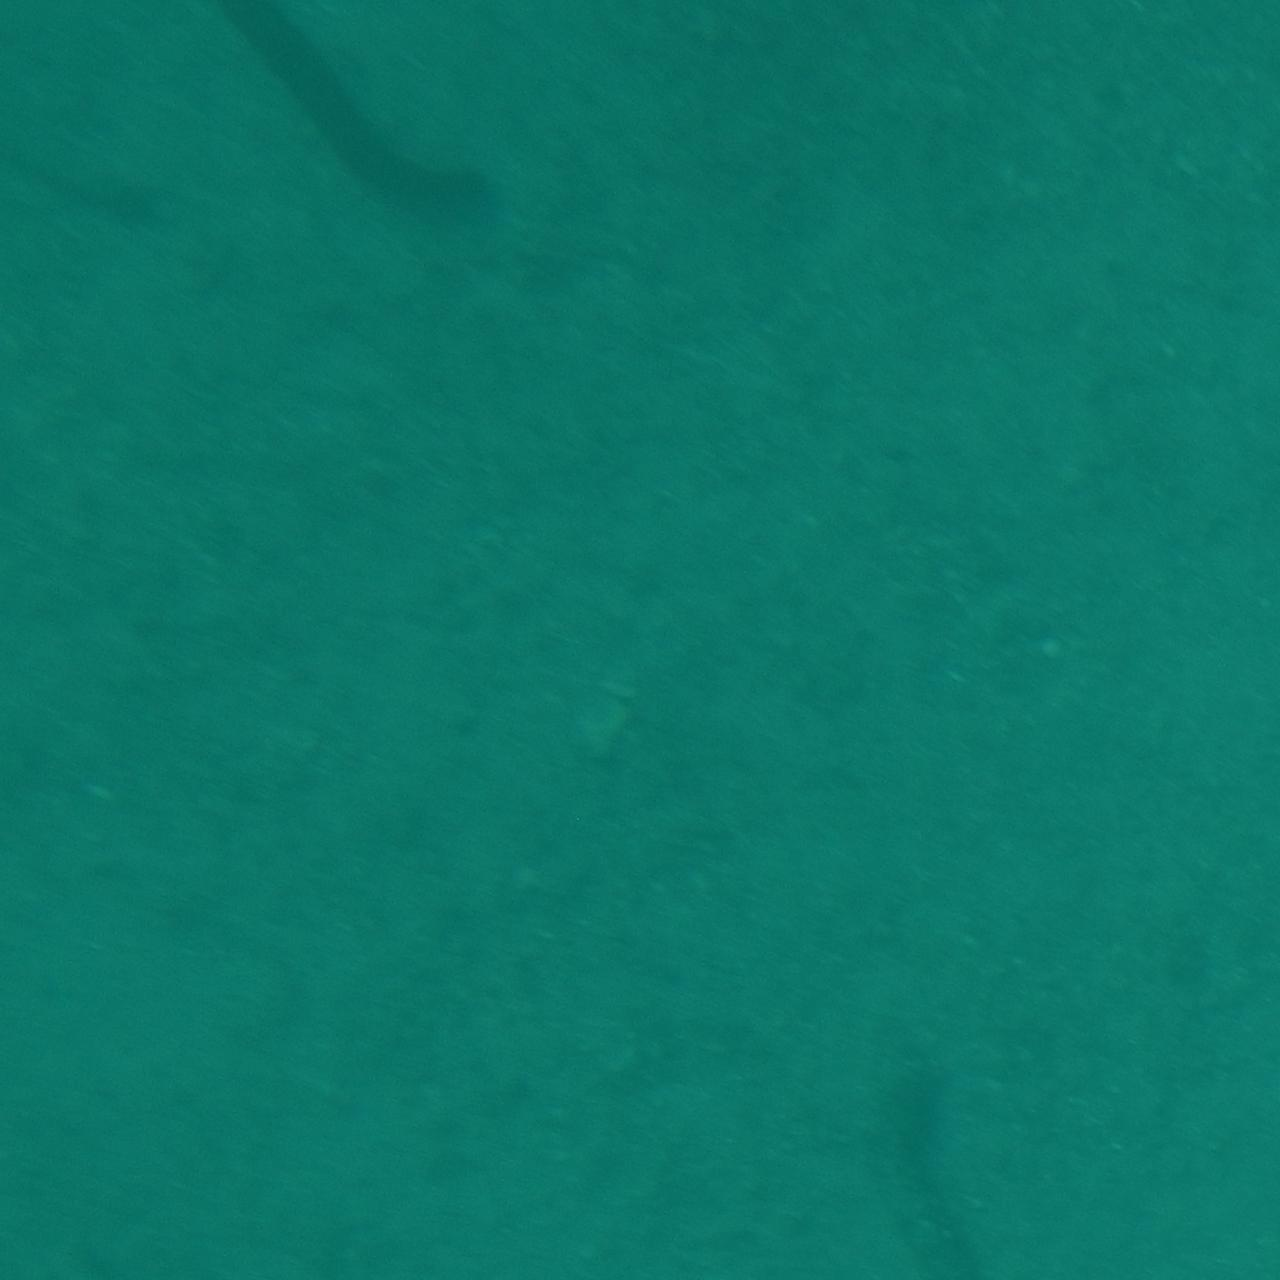Holothuria tubulosa: (212, 0, 514, 220)
